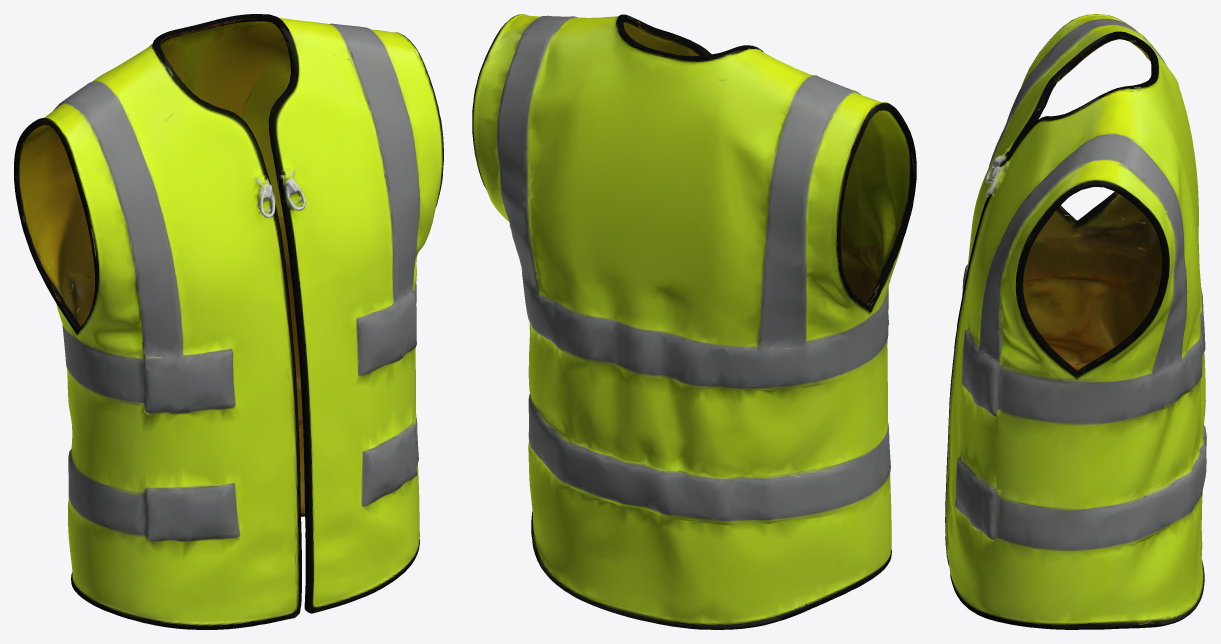
The model's file is foo.glb.
3 views of the same model, side by side, from view 1: azimuth 30°, elevation 25°; view 2: azimuth 150°, elevation 25°; view 3: azimuth 270°, elevation 25° (orthographic). The views are drawn at different scales.
Bounding box in the file's own units: 1.34 × 1.91 × 0.8675.
1 material, 1 textured.
